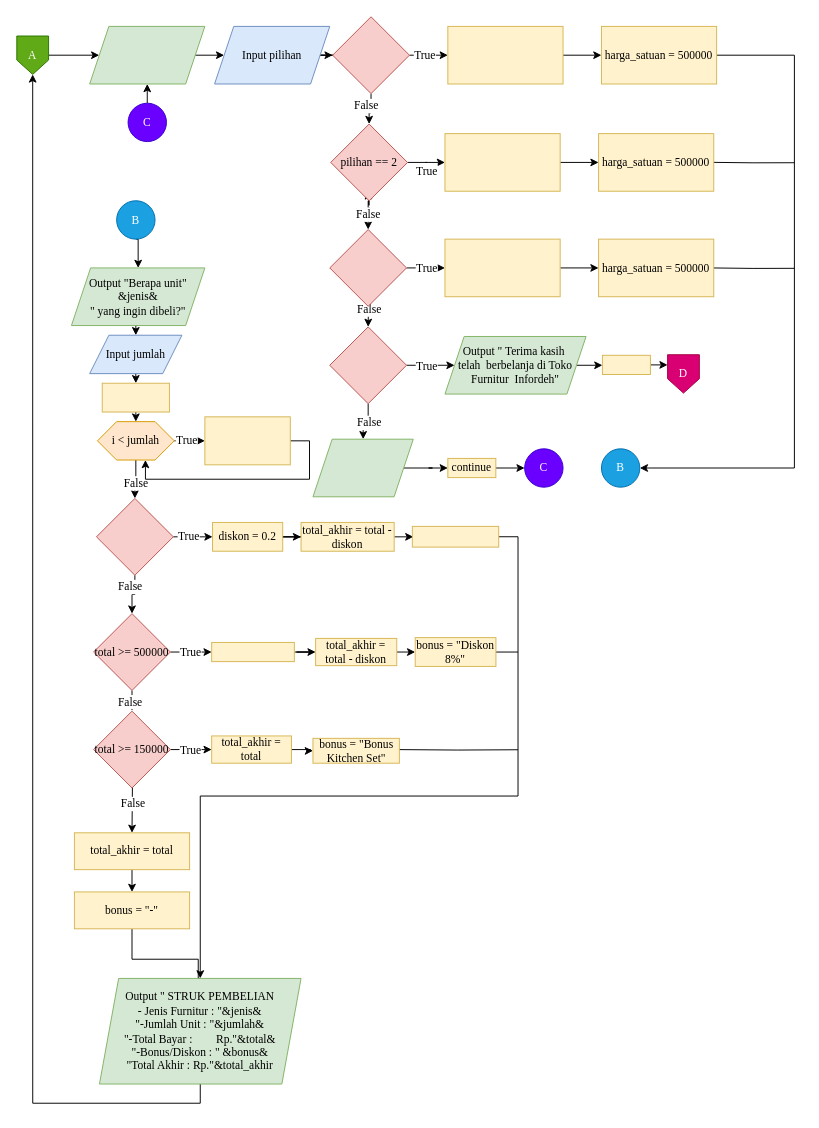
The diagram is 819 pixels wide and 1128 high, and some of its shapes have lost their labels. Here are the shapes that lost their labels. From the top down, the box of each, then its label:
(89, 25, 205, 84): Output "Menu Pembelian"
(332, 16, 409, 94): pilihan == 1
(447, 25, 563, 84): jenis = "Sofa"
(444, 133, 560, 191): jenis = "Meja Belajar"
(329, 229, 407, 306): pilihan == 3
(444, 238, 560, 297): jenis = "Rak Lemari"
(329, 326, 407, 404): pilihan == 4
(601, 354, 650, 374): break
(101, 382, 169, 412): total = 0
(204, 416, 290, 465): total += harga_satuan
(312, 438, 413, 497): Output "Pilihan anda tidak valid"
(96, 497, 173, 575): total >= 700000
(411, 525, 499, 547): bonus = "Diskon 20%"
(211, 641, 294, 662): diskon = 0.08
